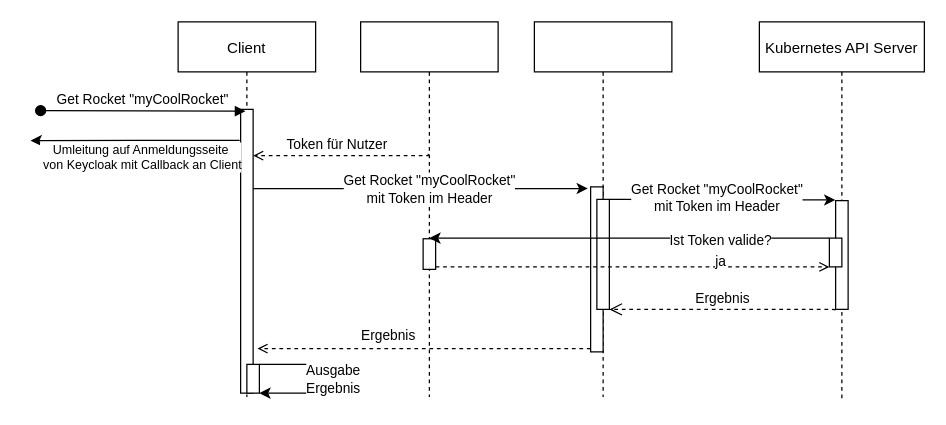
This 946x425 diagram has some shape labels left out. The shapes that lost their labels are listed below. From the top down, each one's centre as x and y in pixels, then its label:
(428,209): Keycloak
(602,209): Rocket API-Service
